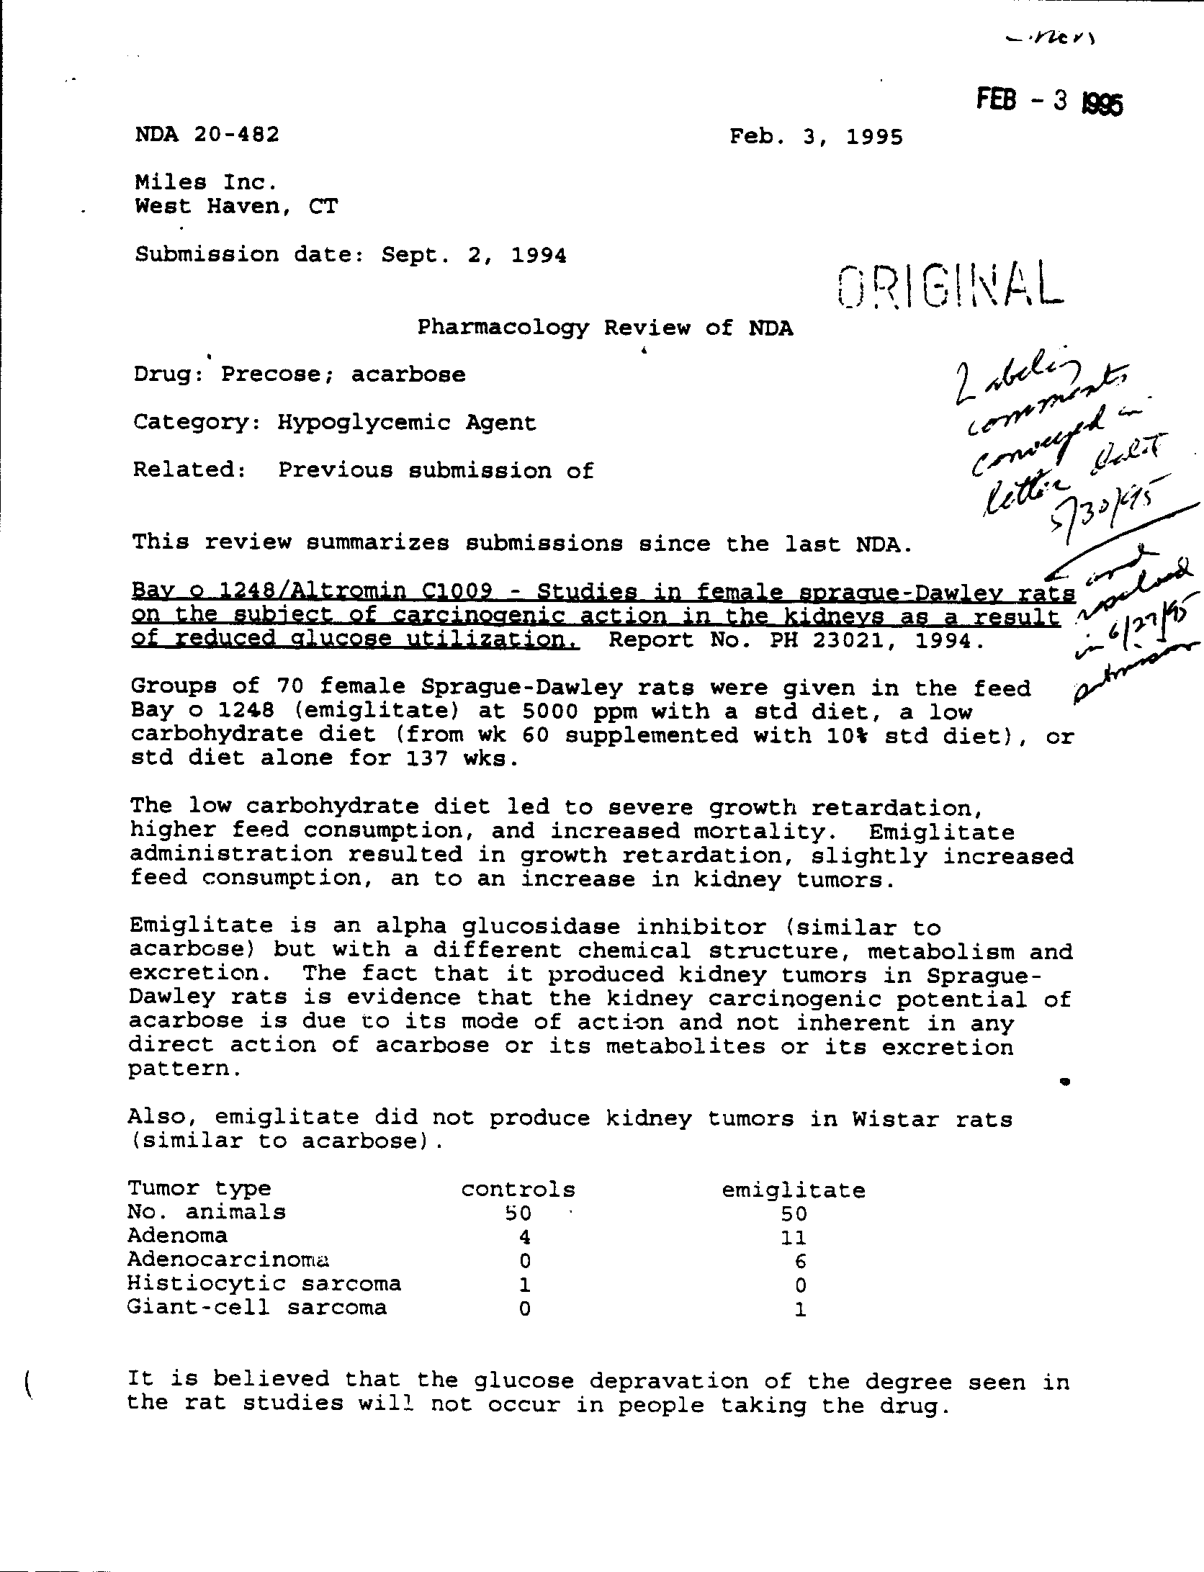nolines: (124, 1174, 868, 1323)
